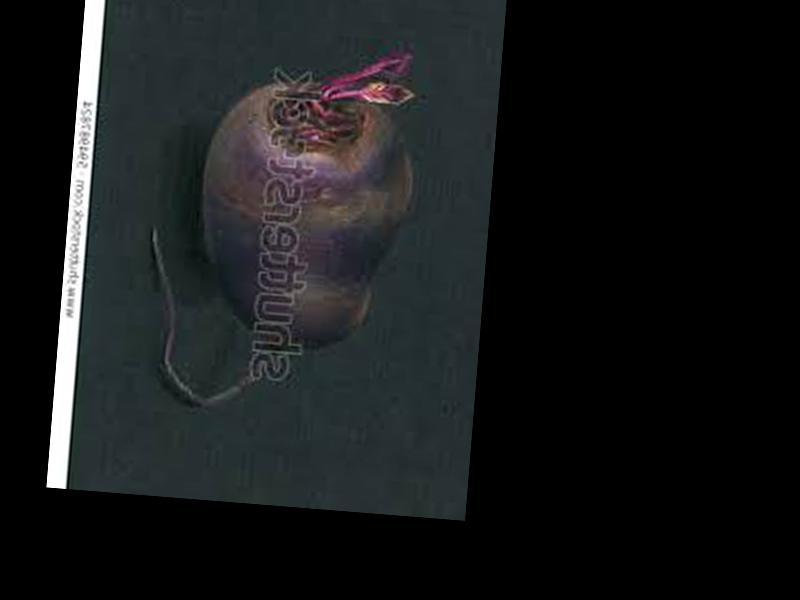Beet: (139, 26, 424, 419)
